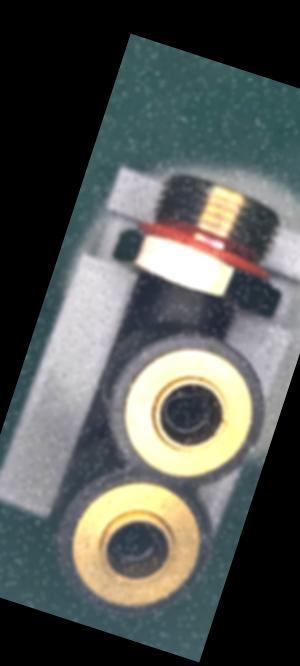bump: (235, 429, 261, 467), (46, 528, 70, 561)
off-centered: (149, 377, 221, 444)
white mark: (186, 293, 200, 312)
